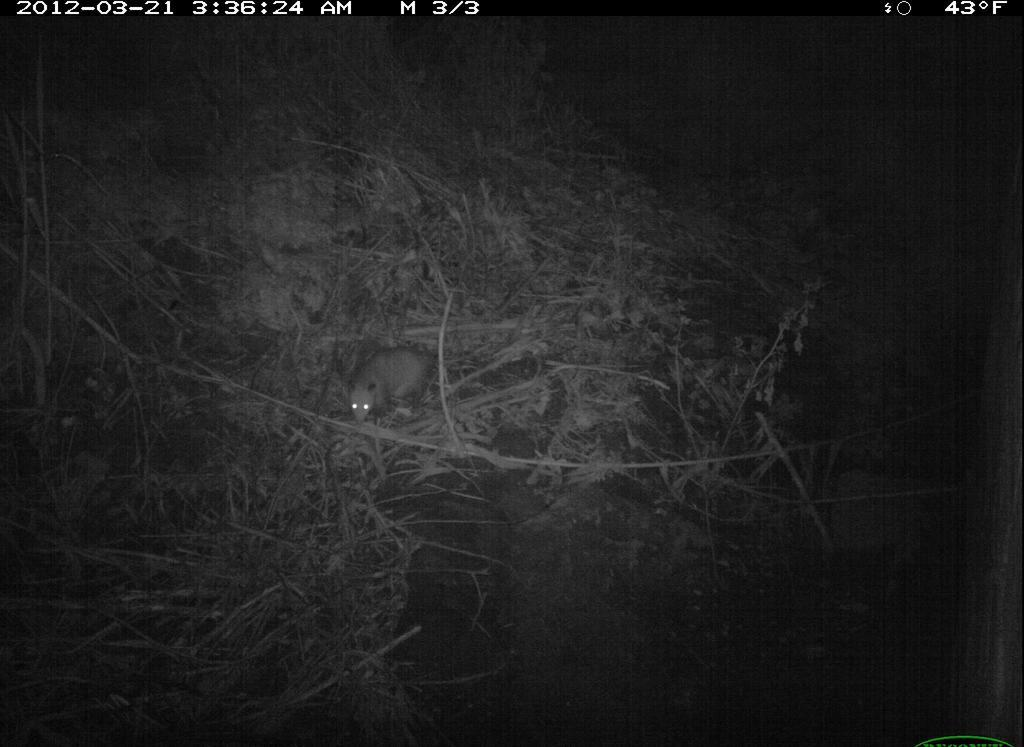opossum: (337, 322, 450, 446)
